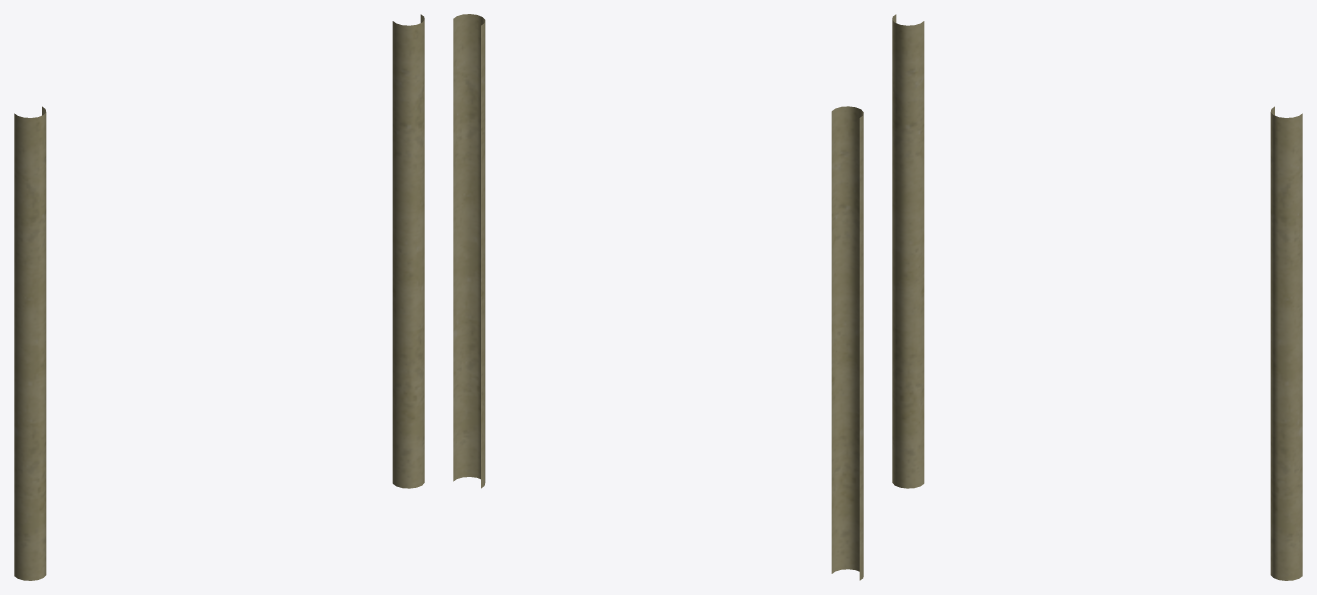
The model's file is trim_firstfloor_window_columns.glb.
3 views of the same model, side by side, from view 1: azimuth 30°, elevation 25°; view 2: azimuth 150°, elevation 25°; view 3: azimuth 330°, elevation 25° (orthographic).
Parts seen in each view (by area): view 1: Trim_FirstFloor_Window_Columns; view 2: Trim_FirstFloor_Window_Columns; view 3: Trim_FirstFloor_Window_Columns.
Part boxes in pixels (x1,y1,x2,y2): Trim_FirstFloor_Window_Columns: (14, 14, 424, 580); Trim_FirstFloor_Window_Columns: (453, 14, 863, 580); Trim_FirstFloor_Window_Columns: (892, 14, 1302, 580).
Bounding box in the file's own units: 2.15 × 2.34 × 0.0921.
1 material, 1 textured.
